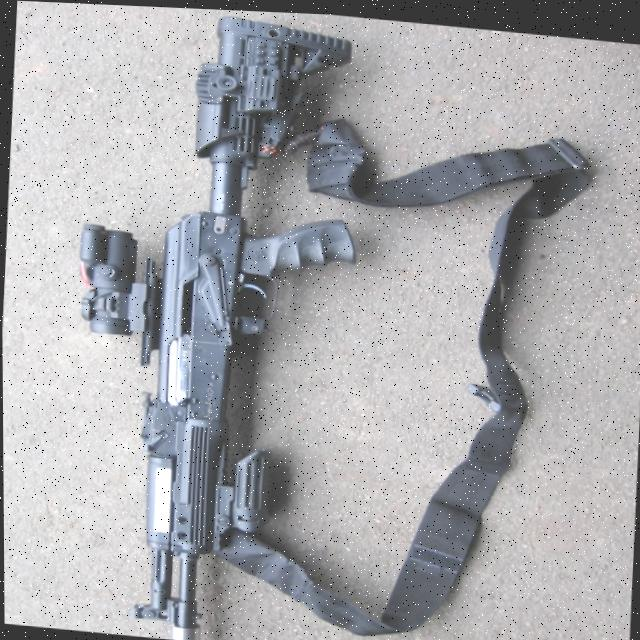firearm: (55, 3, 371, 640)
